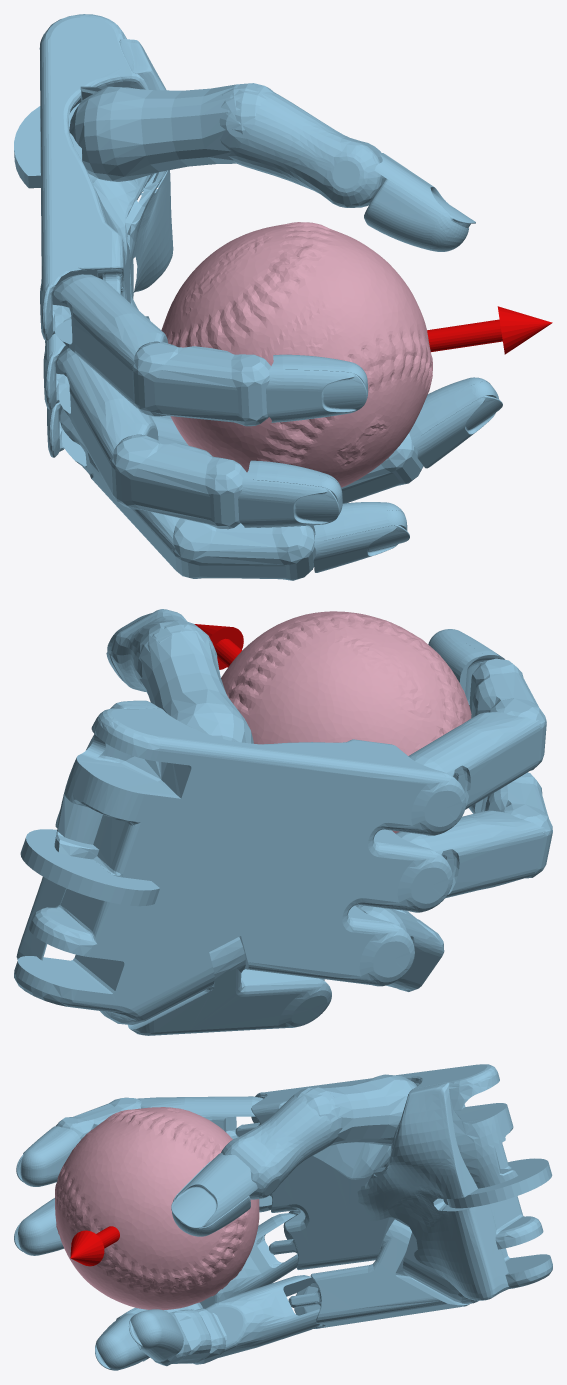
3 renders of one model, top to bottom at view 1: azimuth 30°, elevation 25°; view 2: azimuth 150°, elevation 25°; view 3: azimuth 270°, elevation 25°, orthographic. The views are drawn at different scales.
Parts seen in each view (by area): view 1: world, baseball.stl; view 2: world, baseball.stl; view 3: world, baseball.stl.
Boxes of the visible parts, x1,y1,x2,y2 form: world: (14, 14, 552, 580); baseball.stl: (161, 222, 432, 487); world: (14, 609, 552, 1035); baseball.stl: (221, 611, 471, 833); world: (14, 1064, 552, 1370); baseball.stl: (55, 1107, 259, 1310).
Bounding box in the file's own units: 0.1226 × 0.1161 × 0.1913.
